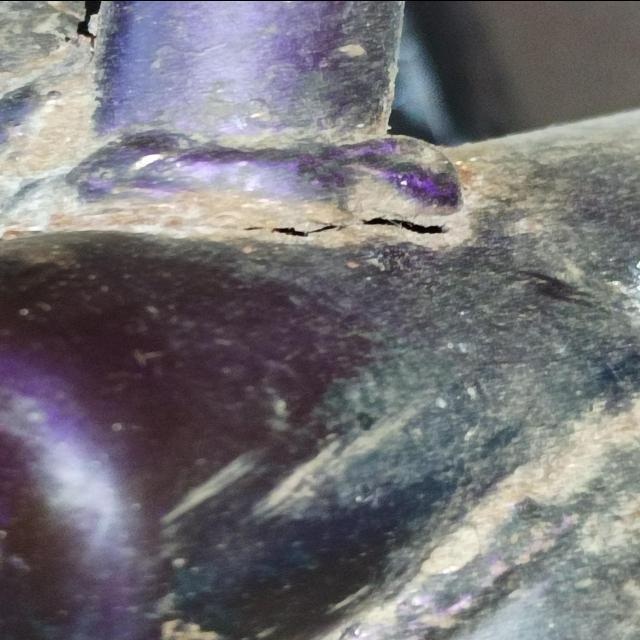Crack: (239, 210, 459, 240)
